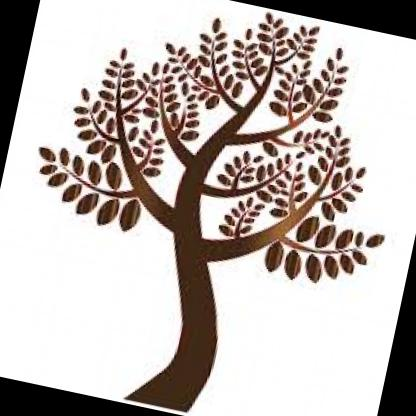trunk_reflex: (137, 274, 232, 407)
